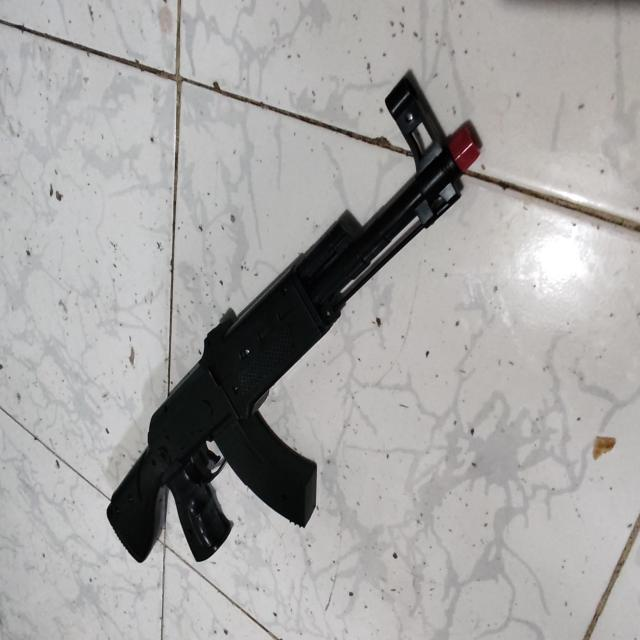rifle: (106, 76, 482, 564)
